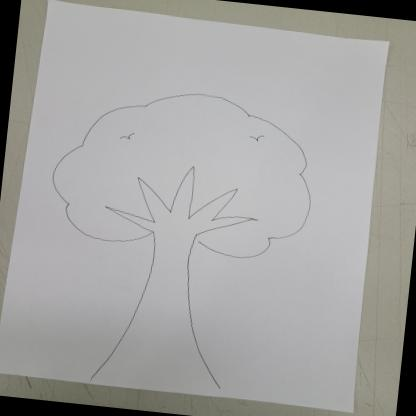branch_sharp: (94, 150, 268, 244)
crown_cloud: (42, 76, 326, 268)
trunk_reflex: (124, 250, 209, 339)
